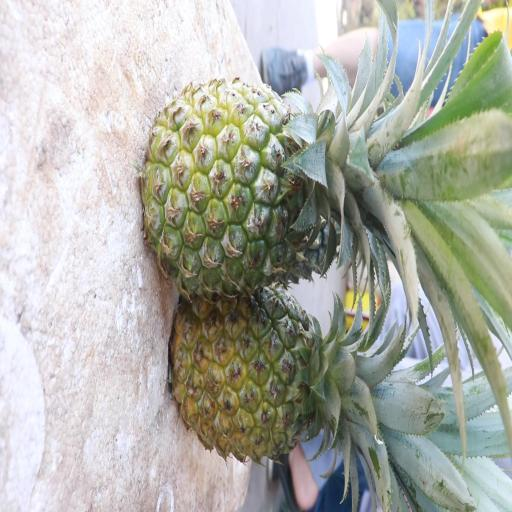------------------------------: (148, 62, 370, 291)
Pineapple - v8 v1: (176, 296, 370, 456)
